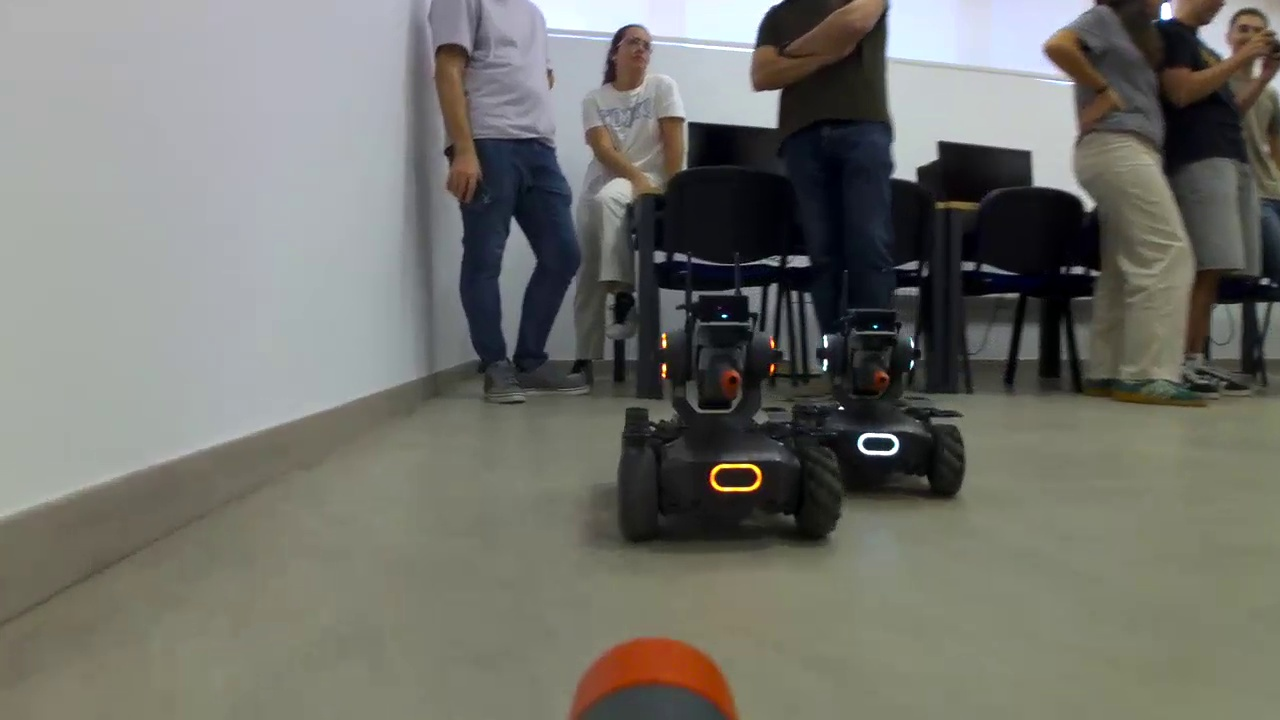robot: (616, 322, 840, 559), (797, 316, 974, 518)
